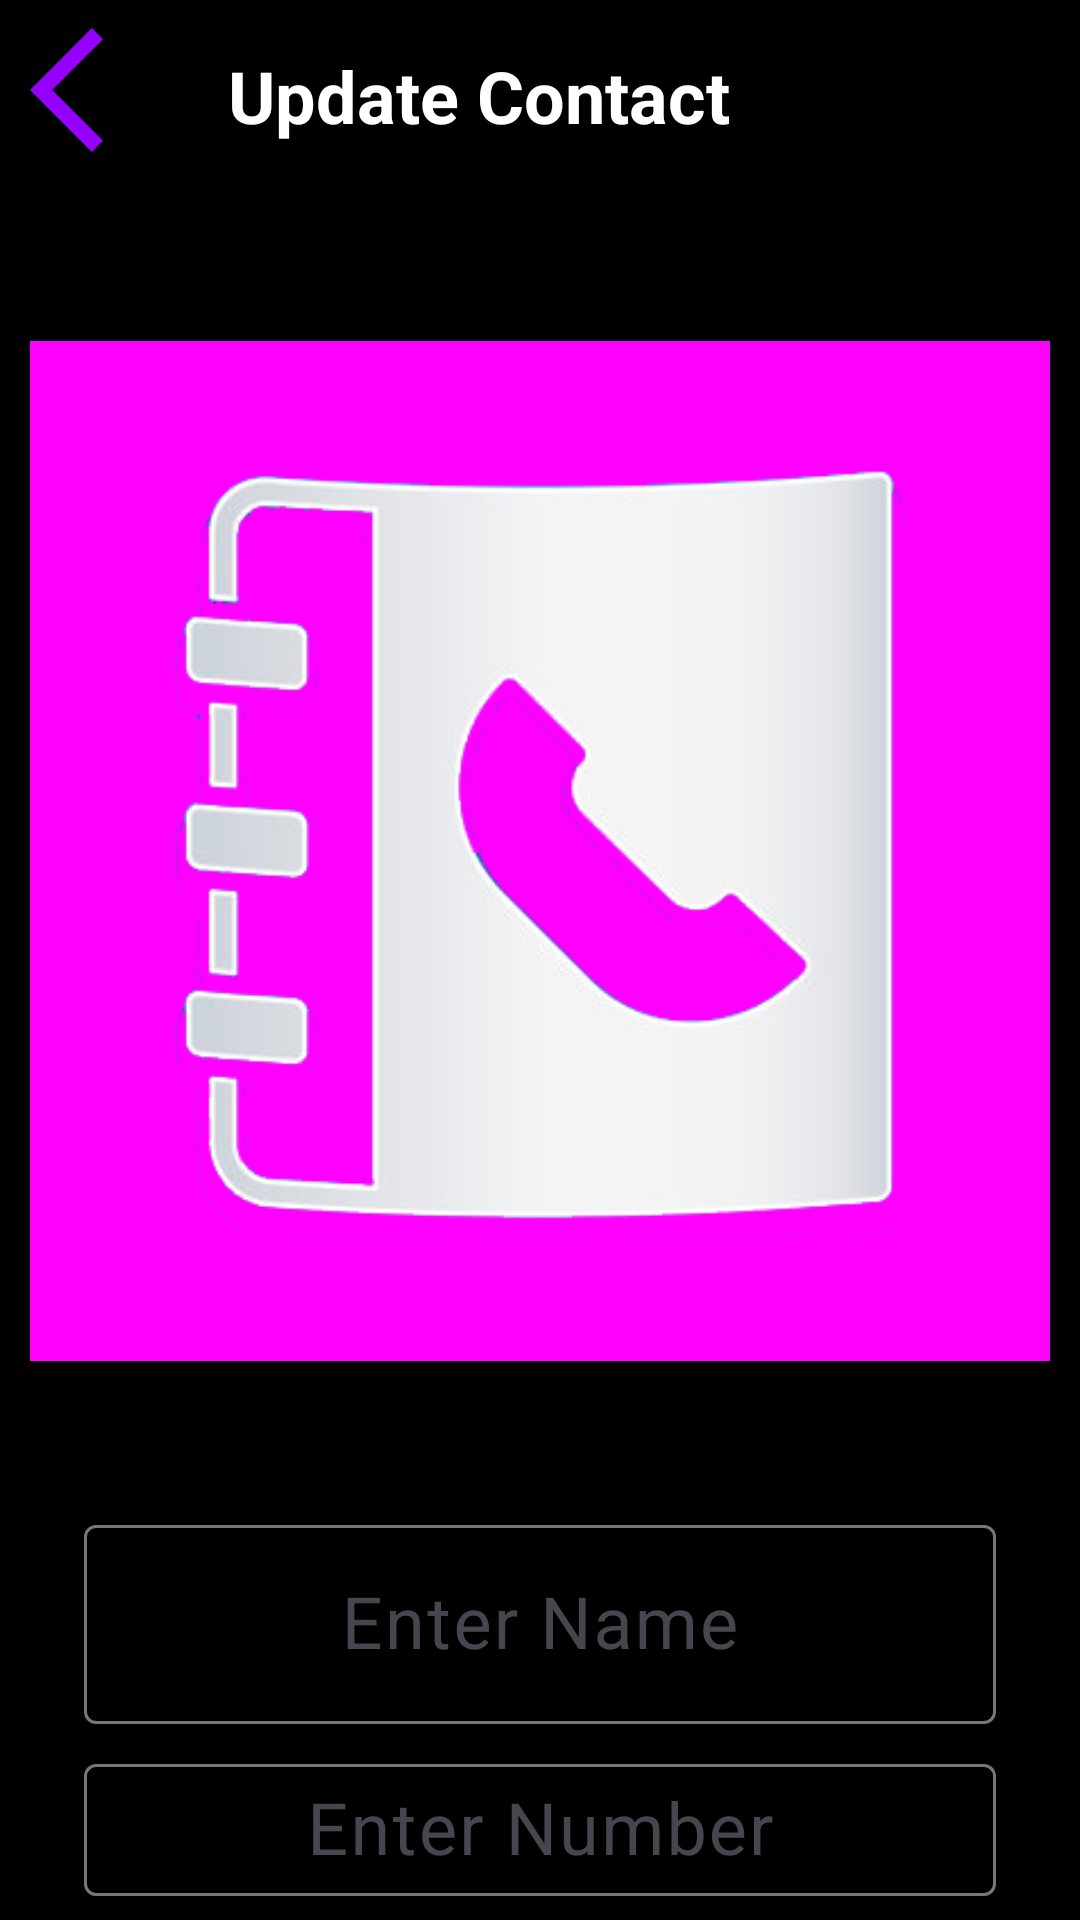

Where to tap for icons on this 1080 × 1920 app screen, as (x,y):
back: (66,90)
